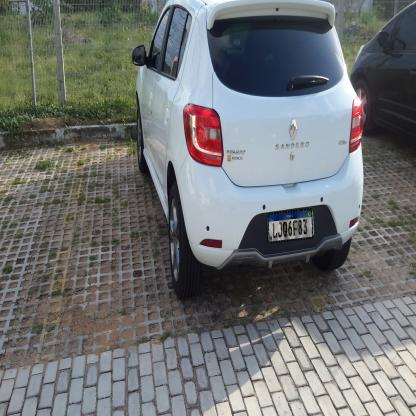PlacaM: (268, 208, 313, 244)
